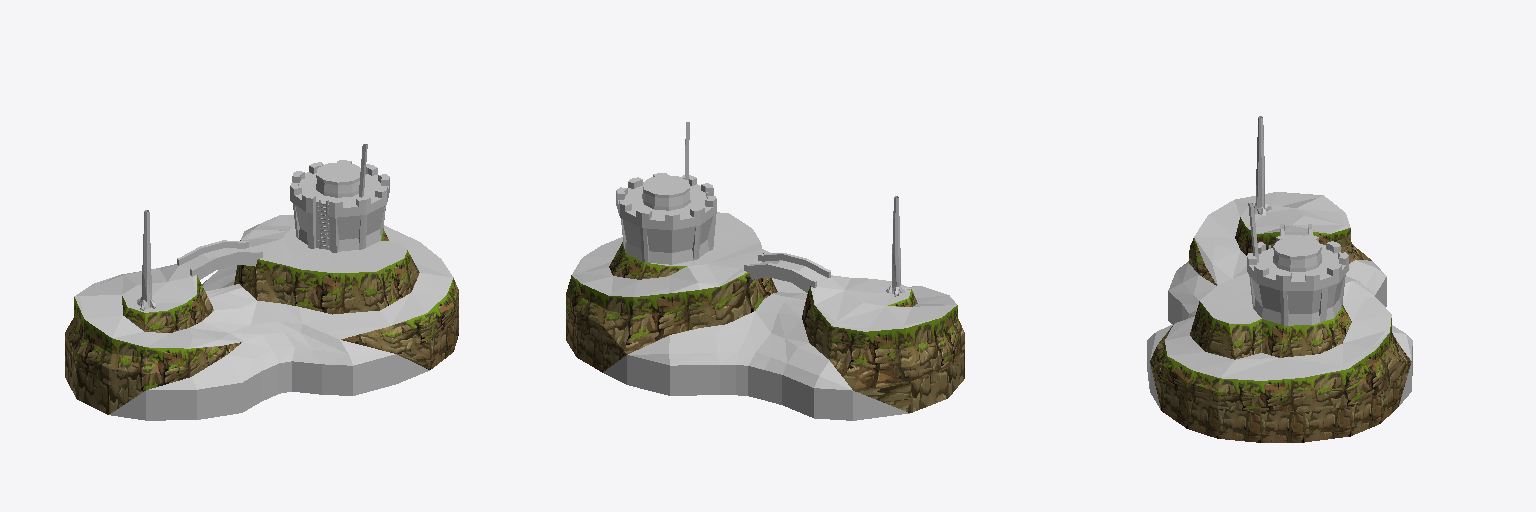
The picture shows the model from 3 angles: view 1: azimuth 30°, elevation 25°; view 2: azimuth 150°, elevation 25°; view 3: azimuth 270°, elevation 25°; orthographic projection.
Visible parts, largest first — view 1: mesh-1, mesh-0, mesh-2, mesh-8, mesh-7, mesh-13, mesh-9, mesh-6; view 2: mesh-1, mesh-0, mesh-2, mesh-8, mesh-7, mesh-13, mesh-9; view 3: mesh-1, mesh-2, mesh-8, mesh-0, mesh-7, mesh-13, mesh-9.
Part boxes in pixels (bbox=[...]): mesh-1: bbox=[65, 229, 458, 414]; mesh-0: bbox=[109, 265, 429, 420]; mesh-2: bbox=[74, 215, 453, 348]; mesh-8: bbox=[290, 144, 389, 252]; mesh-7: bbox=[177, 162, 360, 279]; mesh-13: bbox=[137, 210, 155, 310]; mesh-9: bbox=[299, 173, 380, 206]; mesh-6: bbox=[179, 199, 328, 274]; mesh-1: bbox=[566, 242, 964, 412]; mesh-0: bbox=[603, 249, 916, 420]; mesh-2: bbox=[572, 212, 956, 331]; mesh-8: bbox=[616, 122, 716, 264]; mesh-7: bbox=[643, 175, 830, 292]; mesh-13: bbox=[886, 196, 909, 296]; mesh-9: bbox=[625, 186, 706, 217]; mesh-1: bbox=[1150, 217, 1411, 442]; mesh-2: bbox=[1165, 192, 1391, 380]; mesh-8: bbox=[1247, 203, 1348, 325]; mesh-0: bbox=[1147, 237, 1412, 409]; mesh-7: bbox=[1273, 224, 1321, 259]; mesh-13: bbox=[1254, 116, 1271, 215]; mesh-9: bbox=[1257, 248, 1338, 278].
Size of the model in its own units: 37.14 by 19.57 by 23.75.
8 materials, 1 textured.